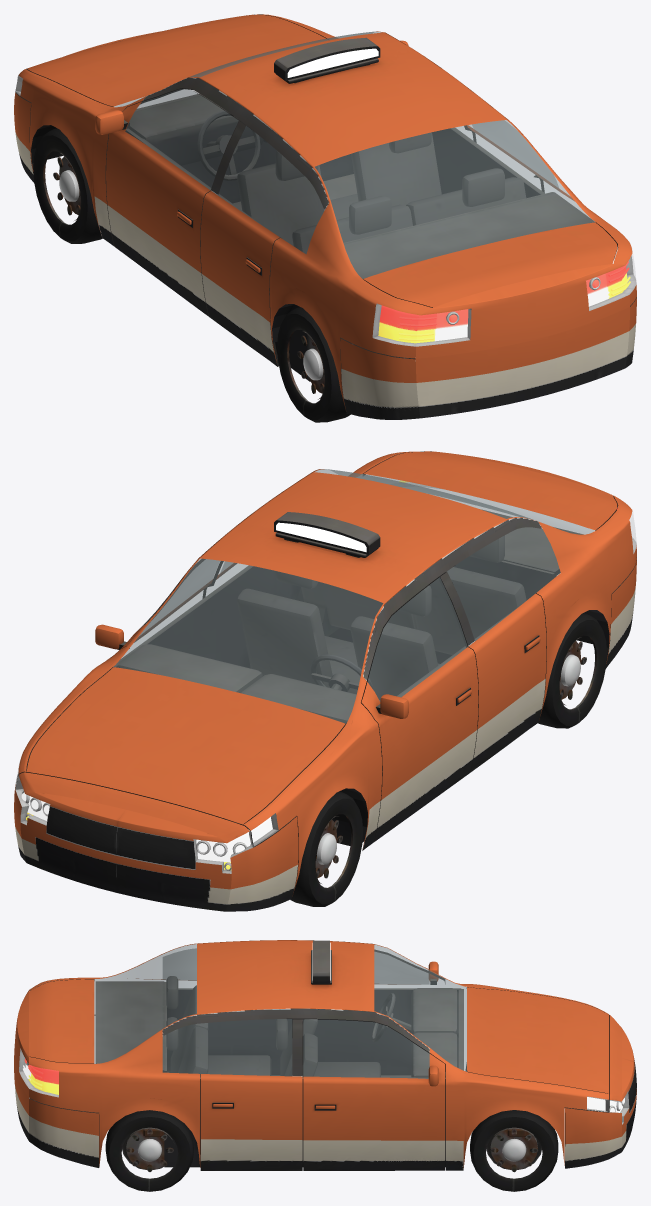
The model's file is taxi_cab.glb.
3 renders of one model, top to bottom at view 1: azimuth 30°, elevation 25°; view 2: azimuth 150°, elevation 25°; view 3: azimuth 270°, elevation 25°, orthographic. The views are drawn at different scales.
Parts seen in each view (by area): view 1: lod0, window_rear, door_fl, bumper_r, hood, trunk, window_l, wheel_rl_mesh, wheel_fl_mesh, roof_sign, window_r, steering_wheel_mesh (+2 smaller); view 2: lod0, hood, window_front, bumper_f, door_fl, trunk, window_l, wheel_fl_mesh, wheel_rl_mesh, roof_sign, window_rear, door_fr (+2 smaller); view 3: lod0, door_fr, hood, window_rear, window_front, window_r, trunk, bumper_f, wheel_fr, wheel_rr, bumper_r, door_fl (+3 smaller).
Part boxes in pixels (bbox=[...]): lod0: bbox=[15, 14, 636, 411]; window_rear: bbox=[315, 120, 594, 278]; door_fl: bbox=[95, 89, 240, 316]; bumper_r: bbox=[340, 297, 636, 419]; hood: bbox=[27, 14, 327, 106]; trunk: bbox=[363, 222, 617, 308]; window_l: bbox=[218, 126, 324, 253]; wheel_rl_mesh: bbox=[277, 307, 350, 422]; wheel_fl_mesh: bbox=[33, 128, 102, 243]; roof_sign: bbox=[274, 37, 380, 83]; window_r: bbox=[472, 120, 559, 191]; steering_wheel_mesh: bbox=[197, 110, 260, 180]; lod0: bbox=[15, 451, 636, 897]; hood: bbox=[26, 667, 345, 825]; window_front: bbox=[113, 558, 382, 723]; bumper_f: bbox=[14, 772, 298, 911]; door_fl: bbox=[361, 577, 478, 841]; trunk: bbox=[363, 451, 617, 530]; window_l: bbox=[447, 527, 560, 640]; wheel_fl_mesh: bbox=[290, 791, 362, 906]; wheel_rl_mesh: bbox=[538, 613, 606, 728]; roof_sign: bbox=[274, 512, 380, 557]; window_rear: bbox=[315, 469, 594, 534]; door_fr: bbox=[95, 558, 219, 657]; lod0: bbox=[14, 940, 608, 1170]; door_fr: bbox=[303, 1019, 445, 1170]; hood: bbox=[467, 987, 608, 1093]; window_rear: bbox=[94, 944, 196, 1063]; window_front: bbox=[374, 944, 466, 1071]; window_r: bbox=[162, 1019, 292, 1076]; trunk: bbox=[17, 979, 94, 1063]; bumper_f: bbox=[564, 1015, 636, 1168]; wheel_fr: bbox=[470, 1110, 558, 1191]; wheel_rr: bbox=[105, 1110, 193, 1191]; bumper_r: bbox=[14, 1015, 99, 1167]; door_fl: bbox=[374, 949, 445, 984].
Size of what is drawn, in the model's own units: 2.03 by 1.59 by 4.72.
12 materials, 10 textured.
